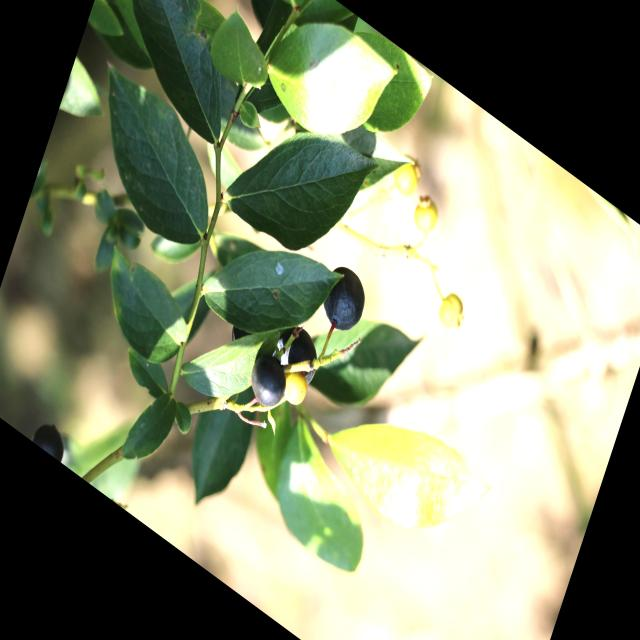blueberry: (311, 252, 375, 347), (267, 309, 331, 397), (240, 337, 298, 420), (29, 401, 76, 464)
blueberry-unripe: (405, 187, 446, 242), (274, 362, 313, 416), (390, 151, 428, 205), (433, 284, 470, 334)
